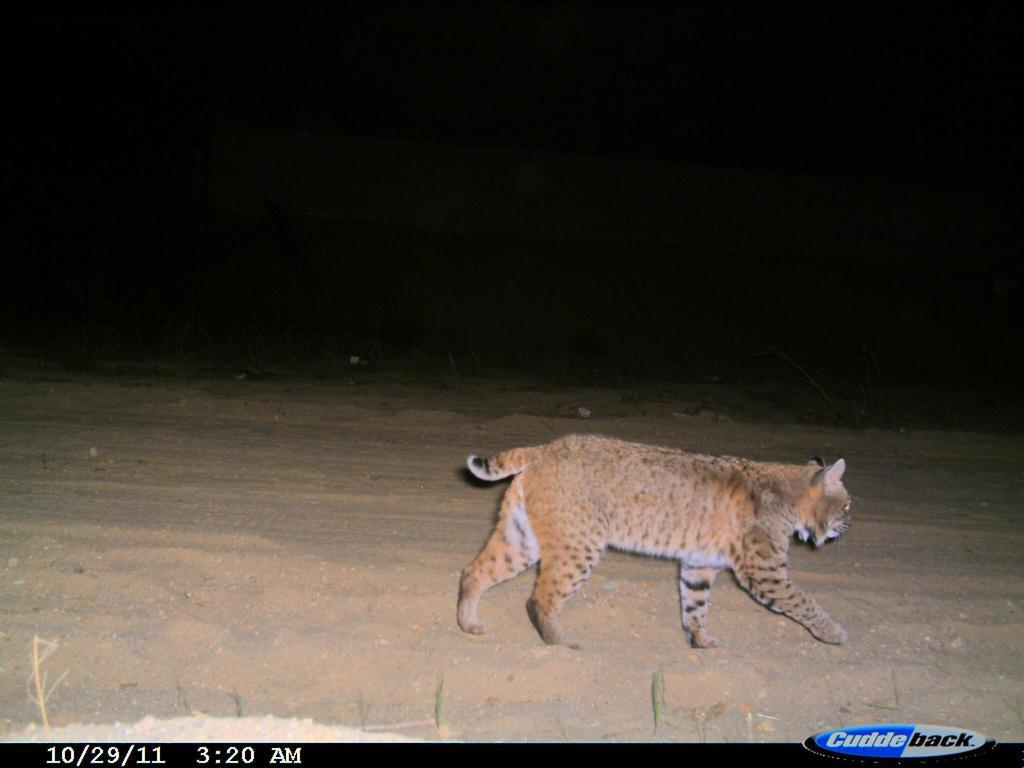bobcat: (454, 406, 886, 658)
